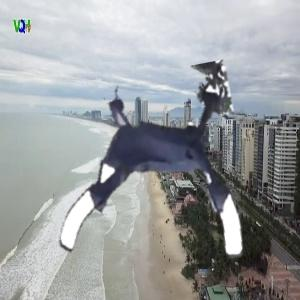drone: (47, 77, 247, 277)
